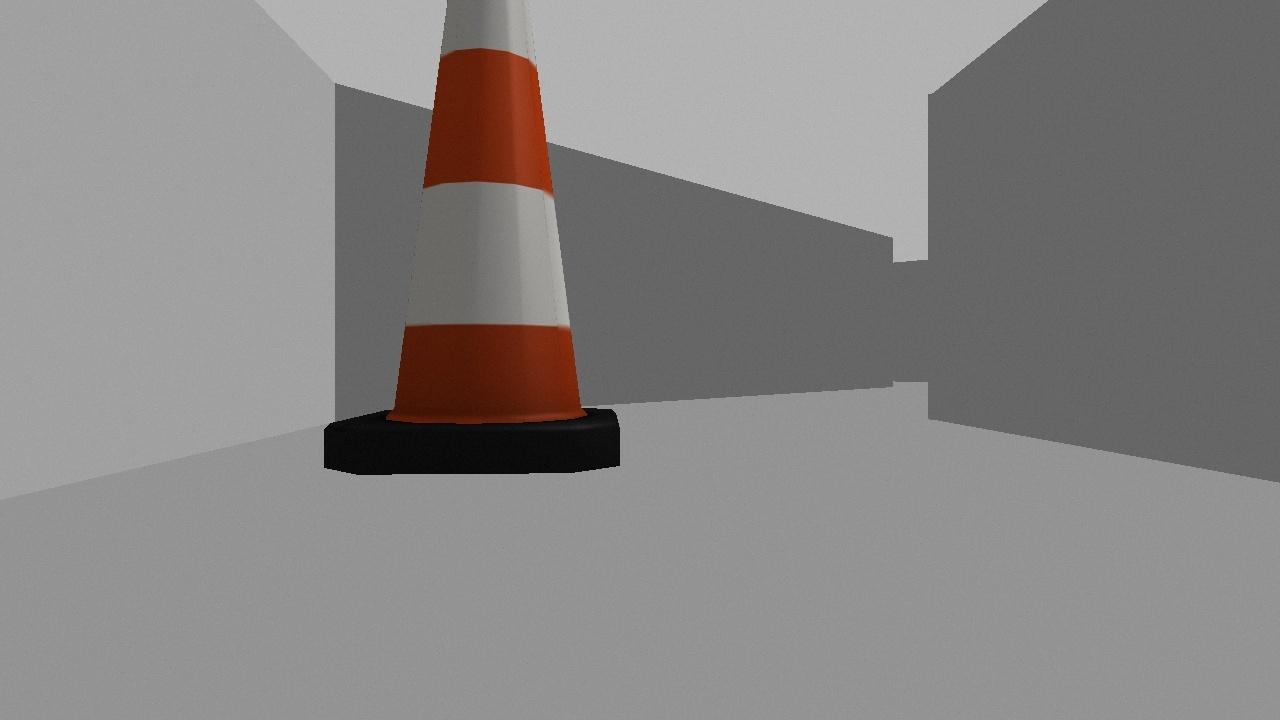cone_barrel: (321, 0, 619, 474)
